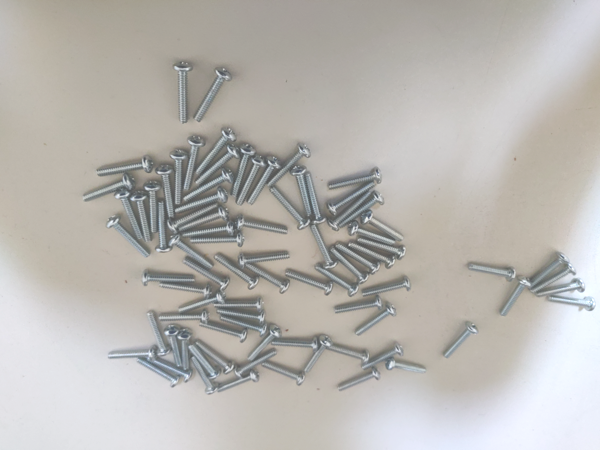longscrew: (195, 68, 232, 123), (79, 173, 137, 207), (266, 143, 309, 188), (269, 186, 311, 231), (325, 180, 379, 215), (194, 144, 240, 184), (326, 190, 373, 229), (166, 236, 216, 271), (195, 129, 232, 174), (108, 219, 149, 259), (249, 156, 280, 207), (163, 199, 215, 229), (169, 199, 221, 229), (235, 155, 266, 205), (529, 252, 567, 292), (180, 171, 232, 200), (179, 200, 231, 229), (216, 254, 259, 289), (531, 262, 577, 294), (227, 146, 254, 199), (328, 249, 370, 283), (355, 305, 397, 339), (95, 155, 154, 179), (327, 167, 383, 192), (317, 264, 358, 298), (342, 196, 385, 228), (336, 245, 383, 274), (351, 241, 398, 269), (175, 289, 227, 314), (183, 259, 231, 286), (444, 323, 478, 361), (235, 349, 279, 378), (244, 327, 281, 361), (248, 265, 292, 293), (501, 277, 531, 318), (197, 340, 234, 373), (360, 234, 408, 259), (534, 275, 588, 297), (136, 359, 178, 387), (362, 212, 404, 240), (338, 367, 381, 394), (304, 169, 324, 226), (348, 221, 395, 245), (311, 224, 336, 269), (117, 189, 139, 240), (332, 294, 383, 316), (362, 345, 405, 371), (216, 371, 262, 395), (286, 272, 334, 295), (362, 277, 412, 299), (260, 362, 303, 387), (189, 345, 218, 382), (321, 343, 374, 363), (200, 321, 248, 343), (183, 214, 231, 236), (304, 336, 331, 375), (158, 161, 174, 222), (170, 144, 186, 205), (185, 132, 201, 193), (175, 62, 191, 123), (465, 262, 518, 280), (548, 293, 598, 312), (157, 305, 209, 323), (134, 191, 152, 243), (240, 249, 289, 268), (190, 231, 252, 246), (220, 316, 266, 336), (233, 217, 292, 232), (192, 355, 214, 395), (142, 271, 196, 287), (295, 165, 311, 217), (105, 345, 156, 361), (152, 360, 192, 380), (149, 309, 165, 358), (271, 336, 320, 351), (213, 309, 269, 322), (161, 280, 211, 294), (386, 361, 430, 376), (213, 298, 265, 310), (156, 200, 168, 252), (146, 178, 157, 234), (166, 324, 178, 369), (179, 330, 191, 371)
